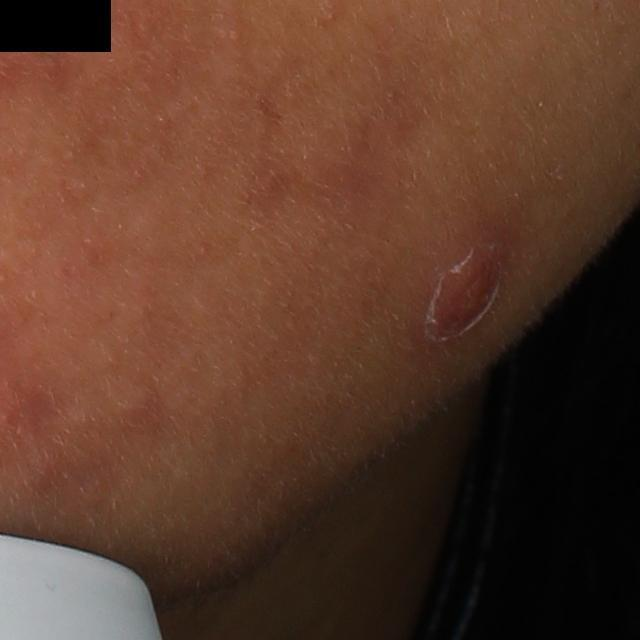papule: (418, 236, 506, 349)
